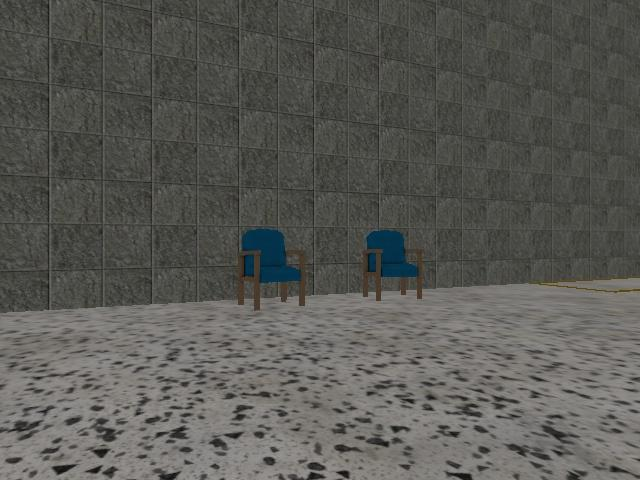chair: (237, 229, 306, 310), (362, 230, 424, 301)
